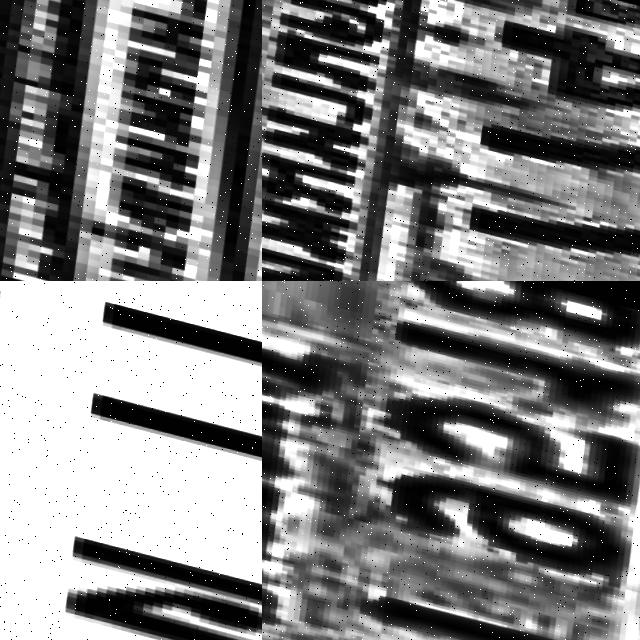license-plate: (262, 281, 640, 640), (262, 0, 640, 281), (0, 281, 262, 640), (0, 0, 262, 281)
